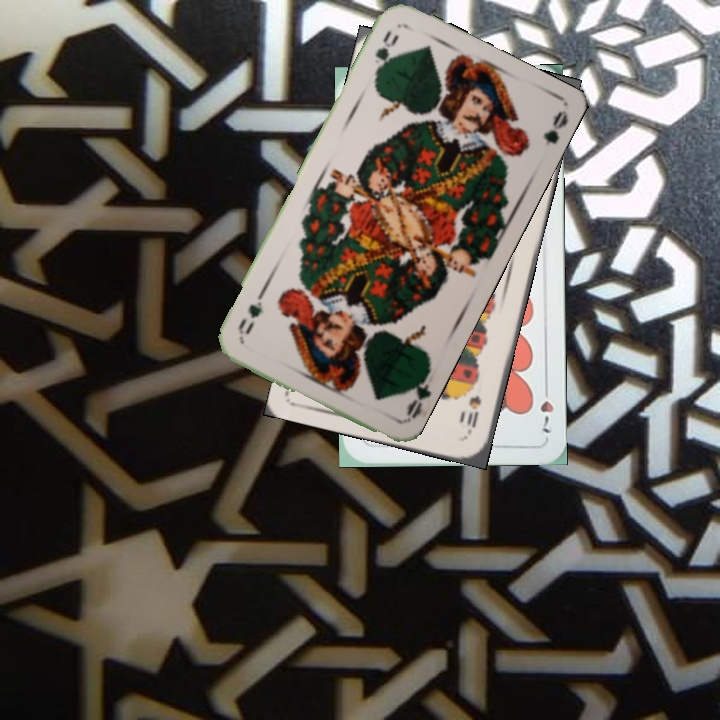GO: (401, 367, 433, 423), (370, 26, 401, 80)
H7: (536, 379, 556, 435)
S10: (462, 391, 484, 437)
